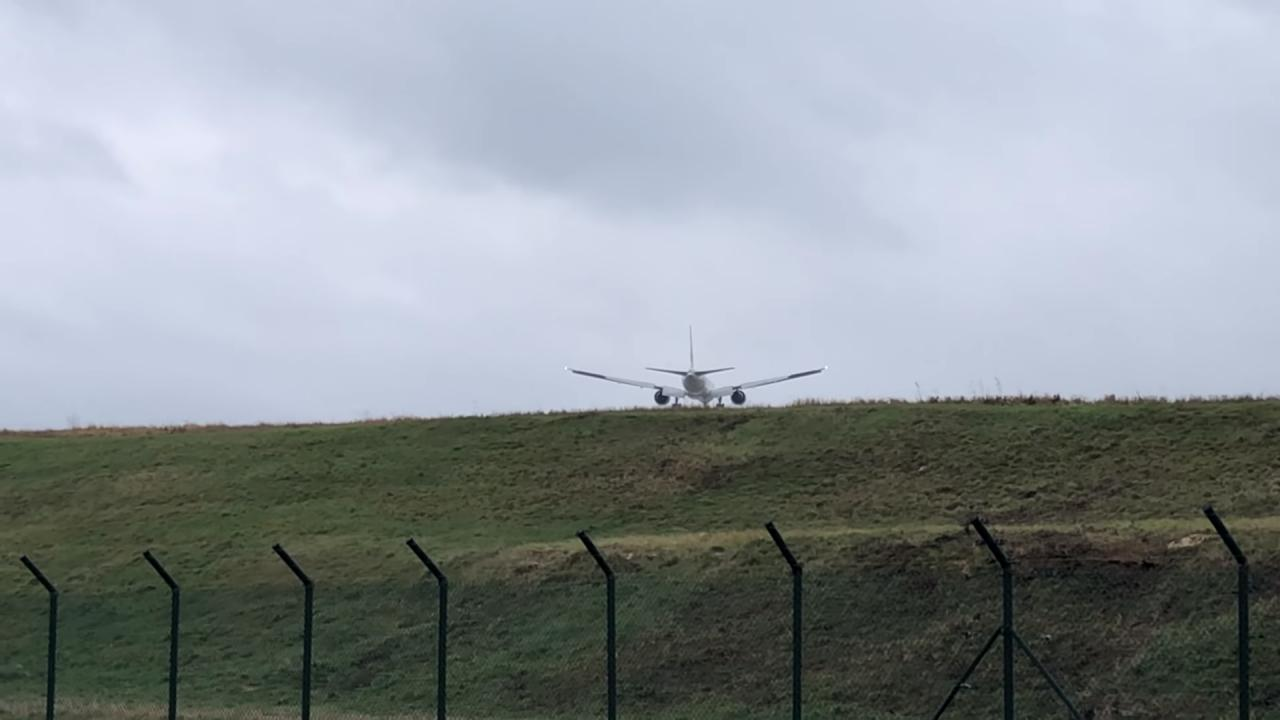Airplane: (556, 319, 836, 421)
